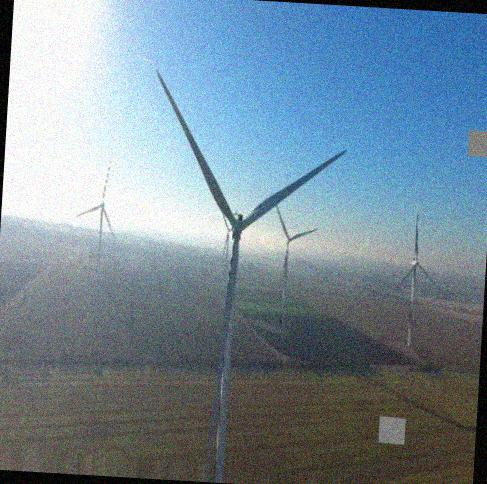wind turbine: (156, 71, 349, 476), (397, 215, 440, 353), (273, 204, 318, 310), (75, 159, 116, 261)
